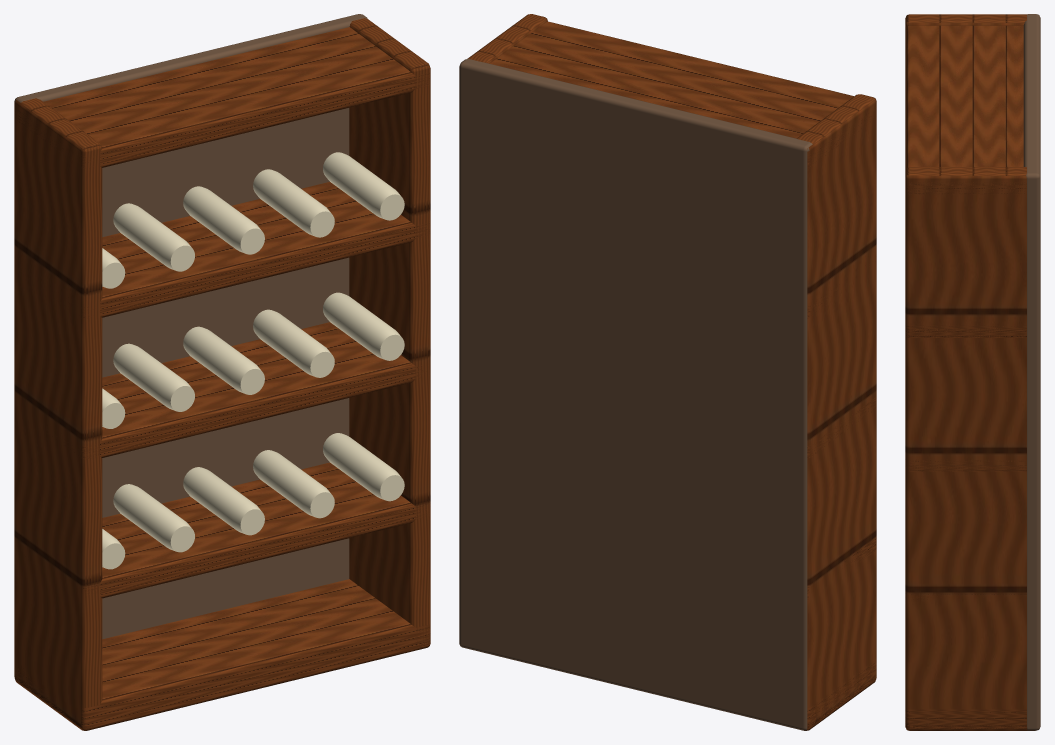
The model's file is adventurers-tavern-and-guild-hall-contract-scroll-rack-6509671d__24740.glb.
3 renders of one model, left to right at view 1: azimuth 30°, elevation 25°; view 2: azimuth 150°, elevation 25°; view 3: azimuth 270°, elevation 25°, orthographic. The views are drawn at different scales.
Visible parts, largest first — view 1: contract-scroll-rack; view 2: contract-scroll-rack; view 3: contract-scroll-rack.
Boxes of the visible parts, box(x1,y1,x2,y2) form: contract-scroll-rack: box(14, 14, 430, 730); contract-scroll-rack: box(459, 14, 876, 730); contract-scroll-rack: box(905, 14, 1040, 730).
Size of the model in its own units: 1 by 1.6 by 0.3525.
3 materials, 1 textured.
